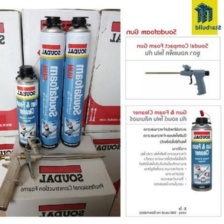aerosol_cans: (56, 13, 95, 149), (32, 12, 70, 150), (11, 62, 41, 151)
